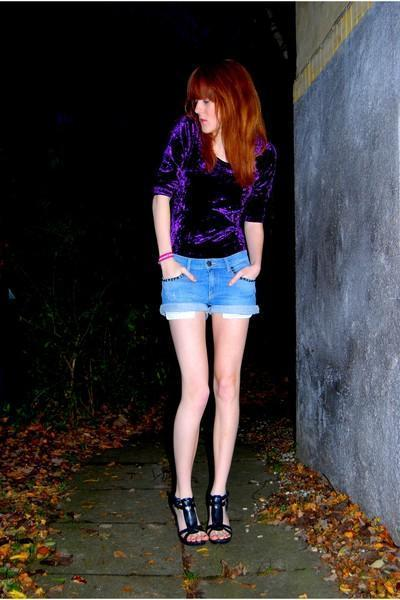shirt: (153, 111, 276, 261)
shoe: (175, 492, 229, 547)
shorts: (160, 252, 258, 347)
